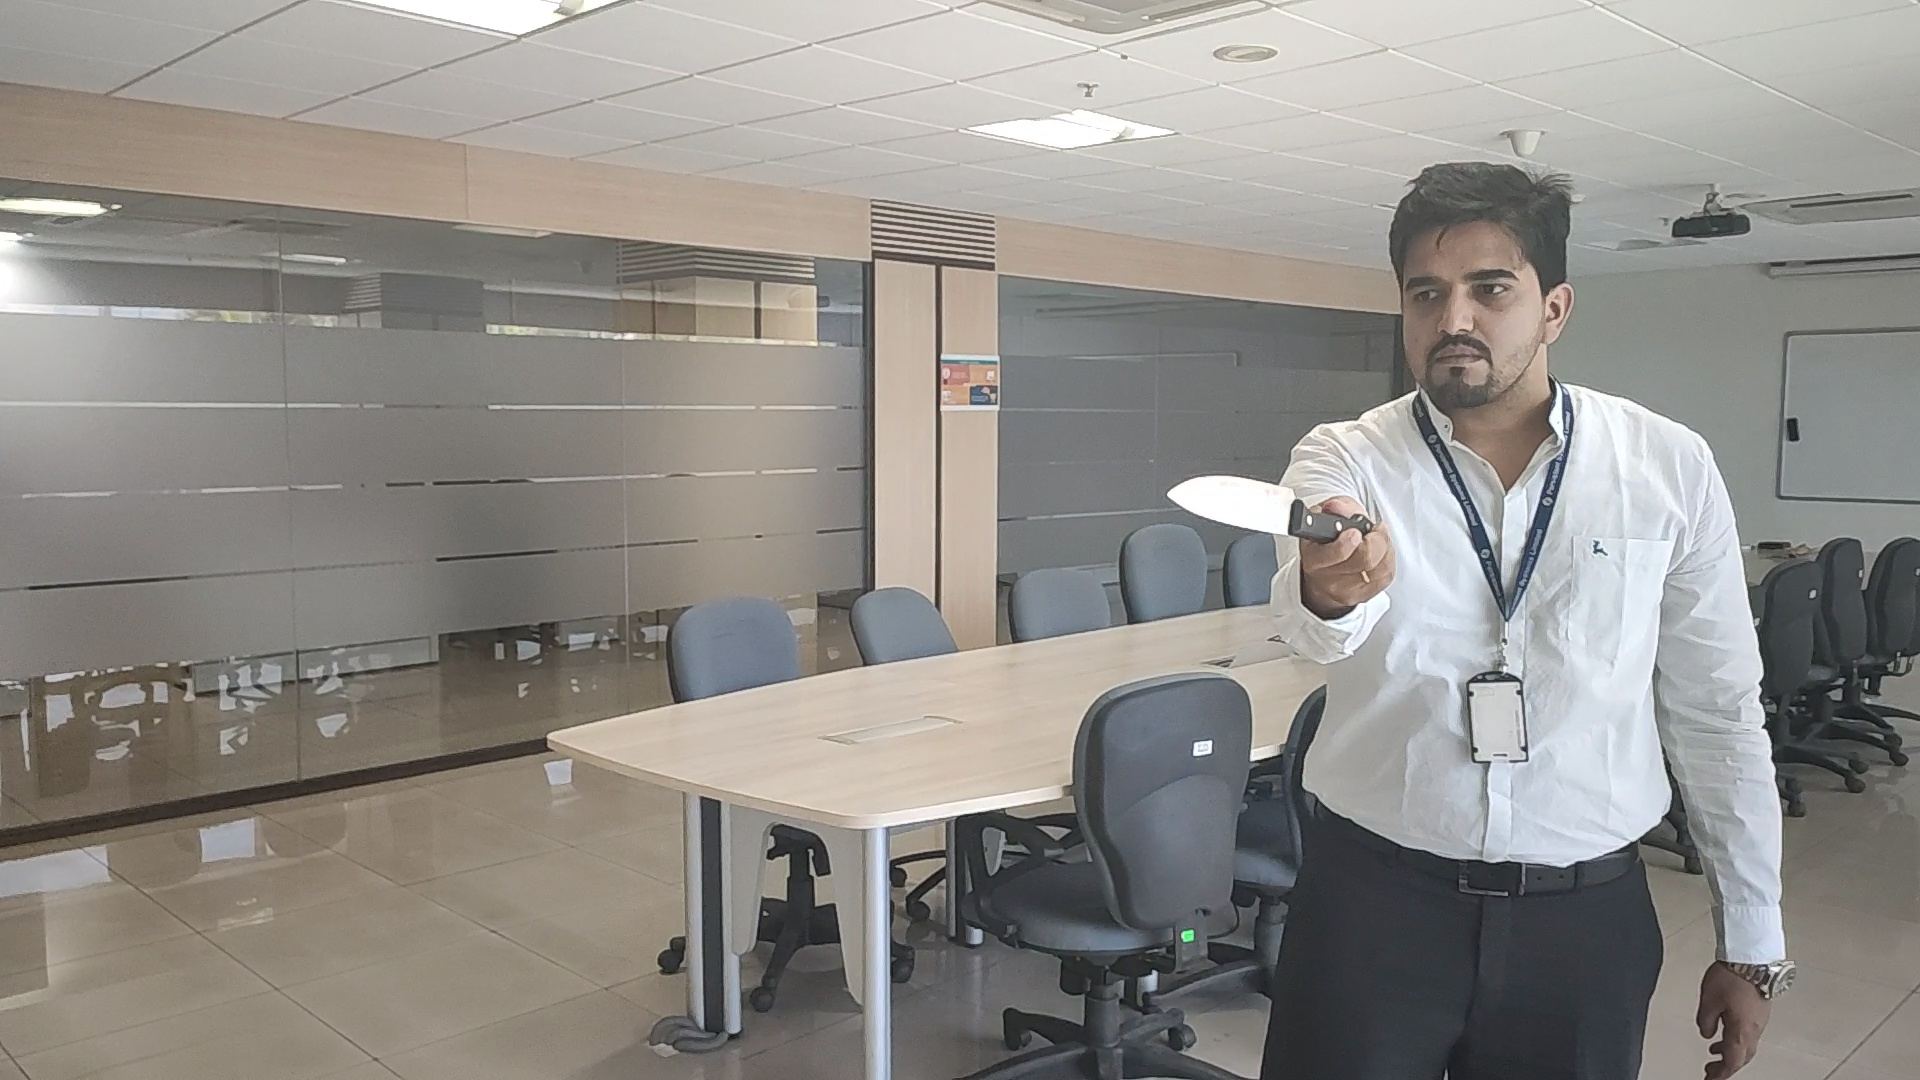knife: (1164, 473, 1340, 545)
